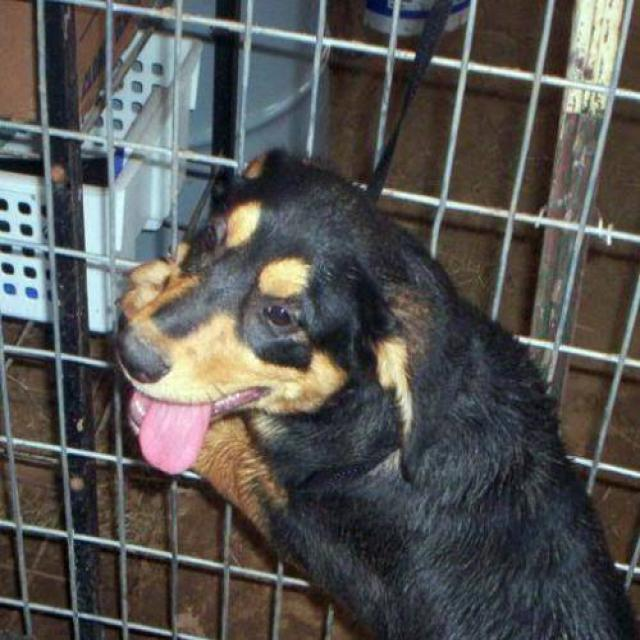dog: (109, 146, 639, 638)
